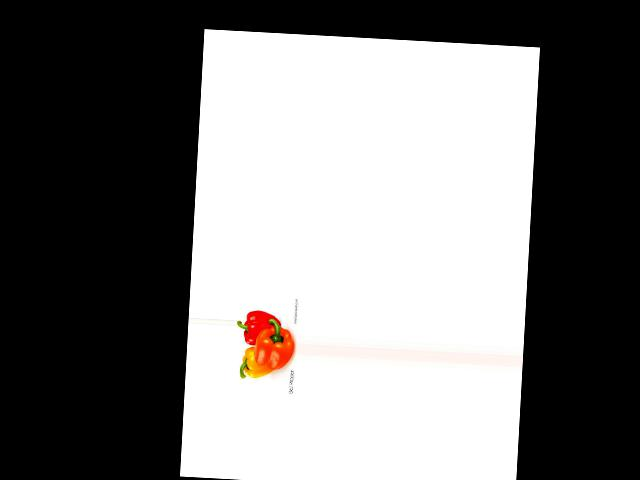bell_pepper: (237, 344, 276, 381)
